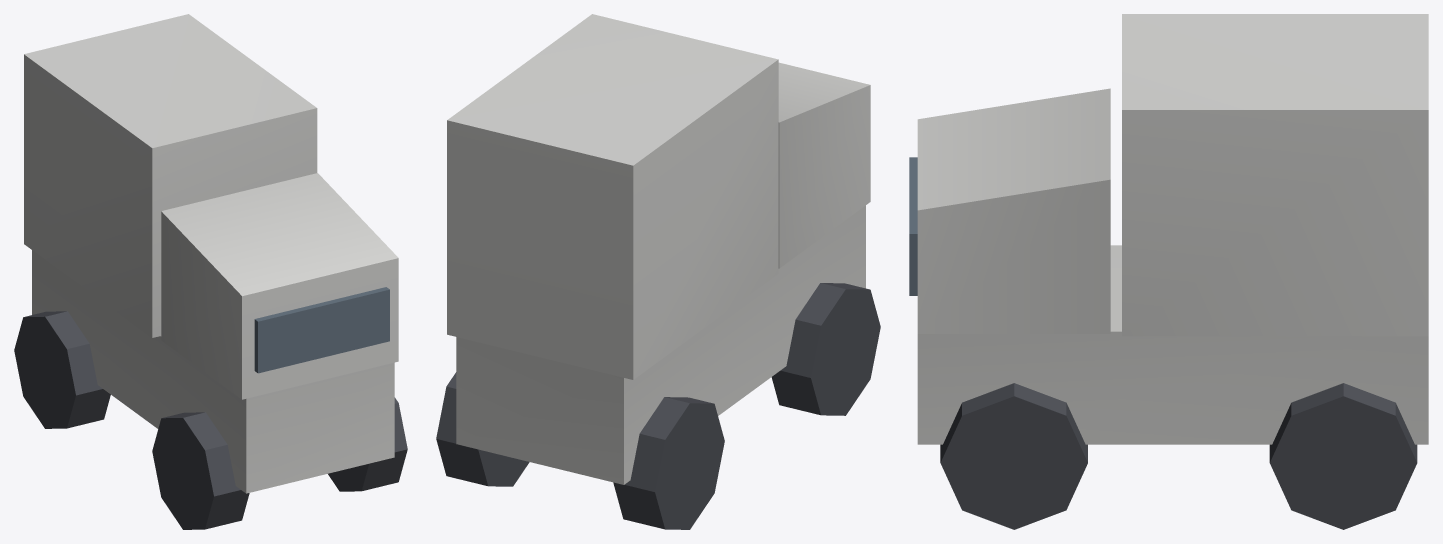
The model's file is veh_box_van.glb.
The picture shows the model from 3 angles, left to right: view 1: azimuth 30°, elevation 25°; view 2: azimuth 150°, elevation 25°; view 3: azimuth 270°, elevation 25°; orthographic projection. The views are drawn at different scales.
Parts seen in each view (by area): view 1: veh_box_van; view 2: veh_box_van; view 3: veh_box_van.
Part boxes in pixels (x1,y1,x2,y2): veh_box_van: [14, 14, 407, 529]; veh_box_van: [436, 14, 880, 529]; veh_box_van: [909, 14, 1428, 529].
Size of the model in its own units: 0.47 by 0.8 by 0.915.
